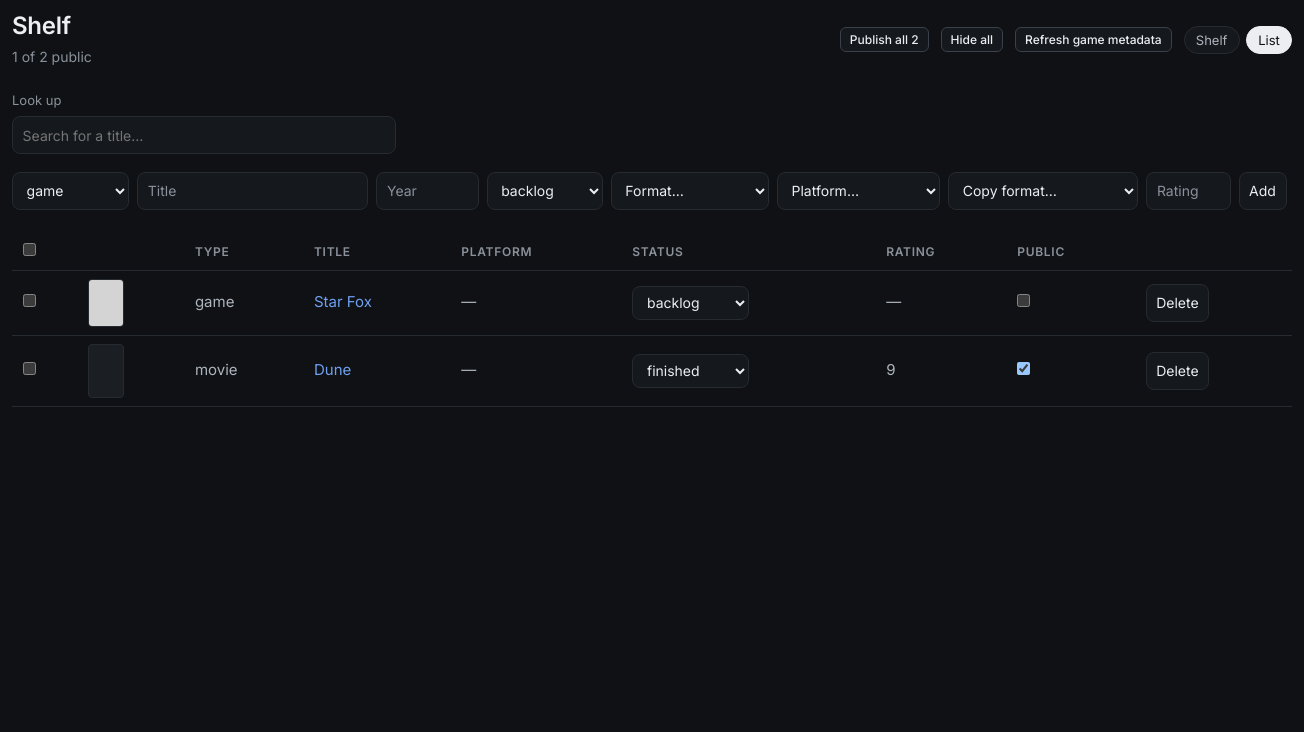
Test: AdminCollection bulk set › keeps the selection and says why when the server refuses
This screenshot has width=1304, height=732.
Click the checkbox named "Select Star Fox".
click(30, 301)  # box [23,294,36,307]
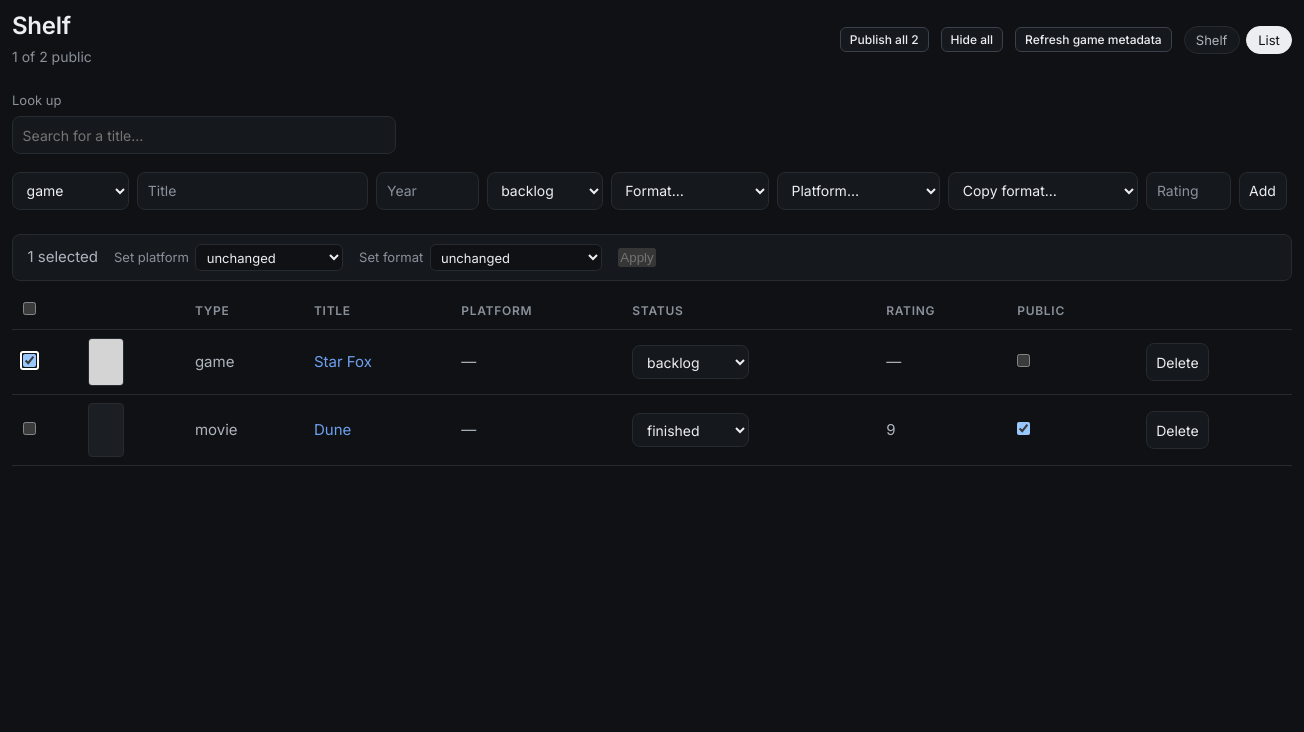
Select "Full game on cartridge" in the dropdown labelled "Set format" at (516, 258), box [430,244,602,271]
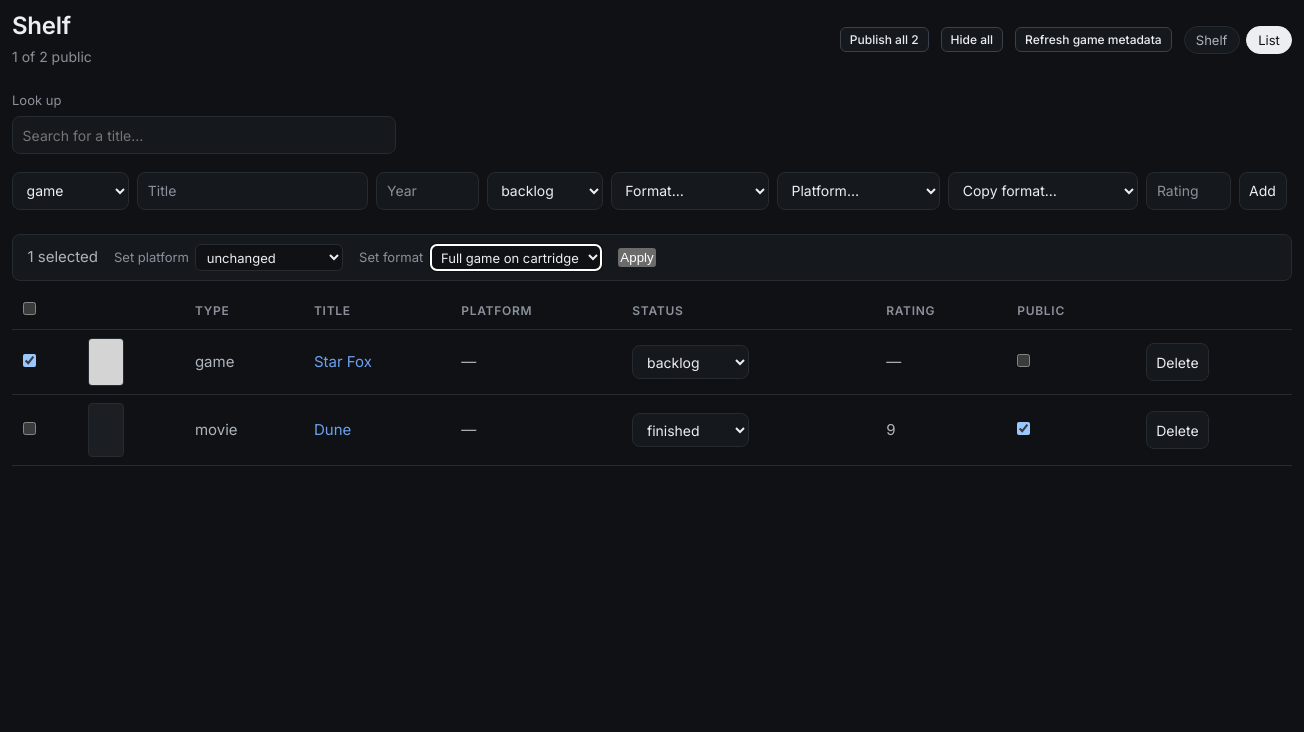
Click the button "Apply".
click(637, 258)  # box [618,248,656,267]
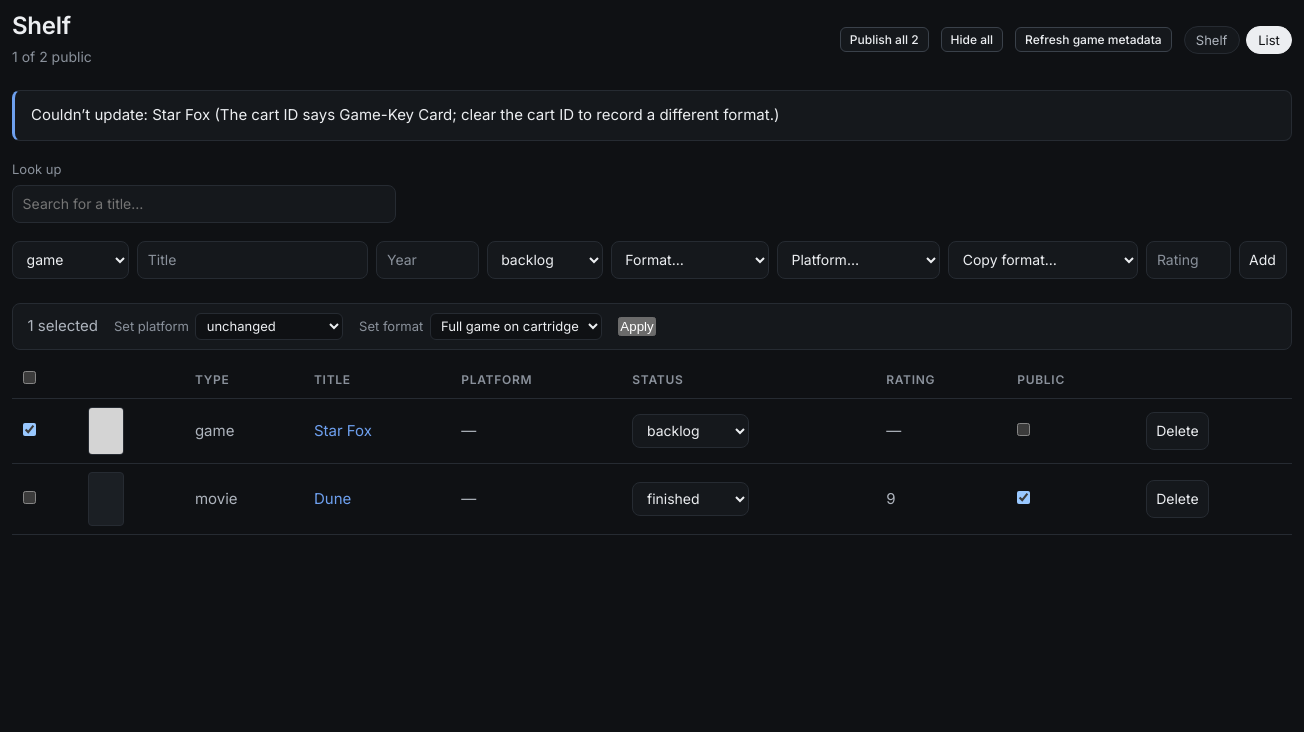
Now the checkbox named "Select Star Fox" is checked, box [23,423,36,436]
Now the message shows "Couldn’t update: Star Fox (The cart ID says Game-Key Card; clear the cart ID to record a different format.)", box [31,105,780,124]
